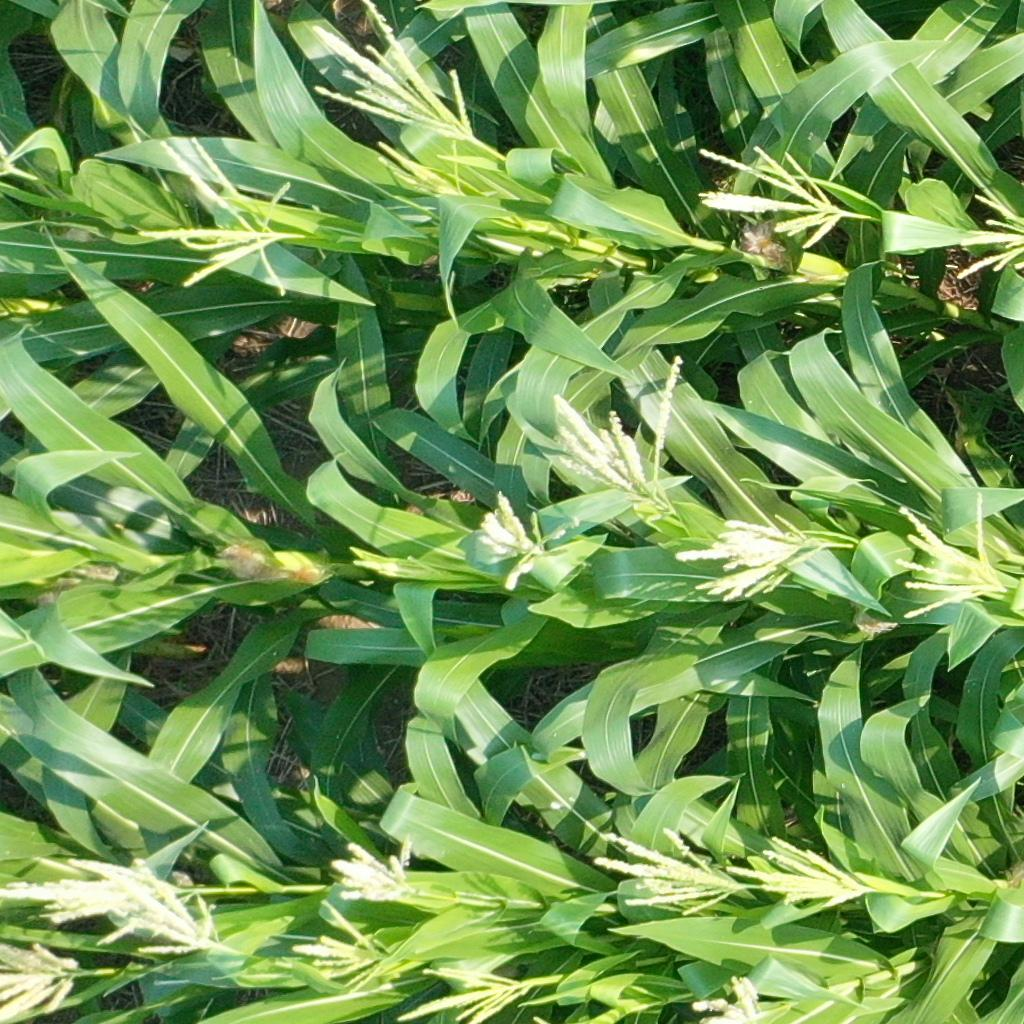Tassel: (132, 132, 311, 299), (300, 1, 484, 142), (550, 350, 695, 494), (693, 142, 853, 255), (889, 489, 1019, 622), (1, 856, 191, 946), (76, 856, 225, 960), (663, 508, 826, 602), (588, 824, 744, 917), (723, 833, 879, 911), (290, 898, 400, 996), (478, 490, 582, 591), (397, 959, 534, 1024), (375, 129, 475, 206), (328, 833, 424, 907), (1, 940, 86, 1023), (949, 189, 1024, 280), (691, 971, 766, 1024), (352, 556, 410, 576)
